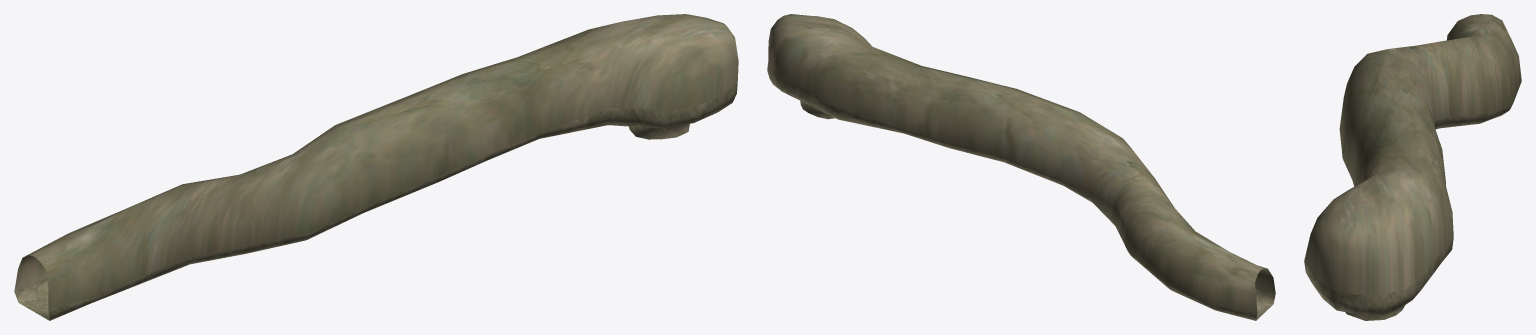
The model's file is EKH_GROTTO_PS_GR_LIB_CAVE_004.fbx.
3 views of the same model, side by side, from view 1: azimuth 30°, elevation 25°; view 2: azimuth 150°, elevation 25°; view 3: azimuth 270°, elevation 25° (orthographic). The views are drawn at different scales.
Visible parts, largest first — view 1: EKH_GROTTO_PS_GR_LIB_CAVE_004; view 2: EKH_GROTTO_PS_GR_LIB_CAVE_004; view 3: EKH_GROTTO_PS_GR_LIB_CAVE_004.
Part boxes in pixels (box(x1,y1,x2,y2)): EKH_GROTTO_PS_GR_LIB_CAVE_004: box(14, 14, 738, 320); EKH_GROTTO_PS_GR_LIB_CAVE_004: box(767, 14, 1275, 320); EKH_GROTTO_PS_GR_LIB_CAVE_004: box(1304, 14, 1521, 320).
Bounding box in the file's own units: 257762 × 66755 × 65895.
Materials: 1 (1 with a texture image).
